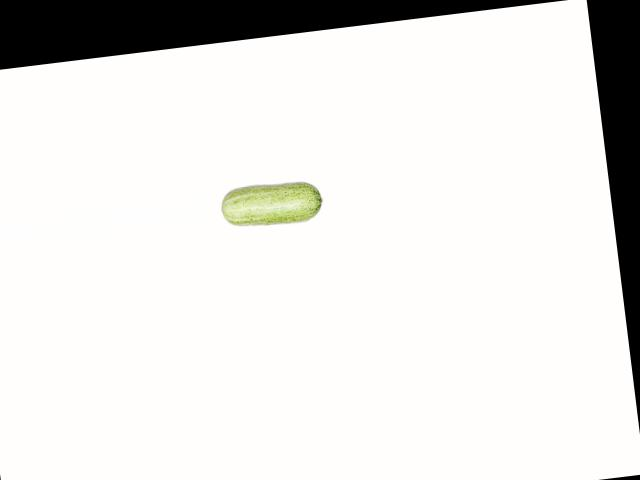cucumber: (219, 177, 325, 230)
